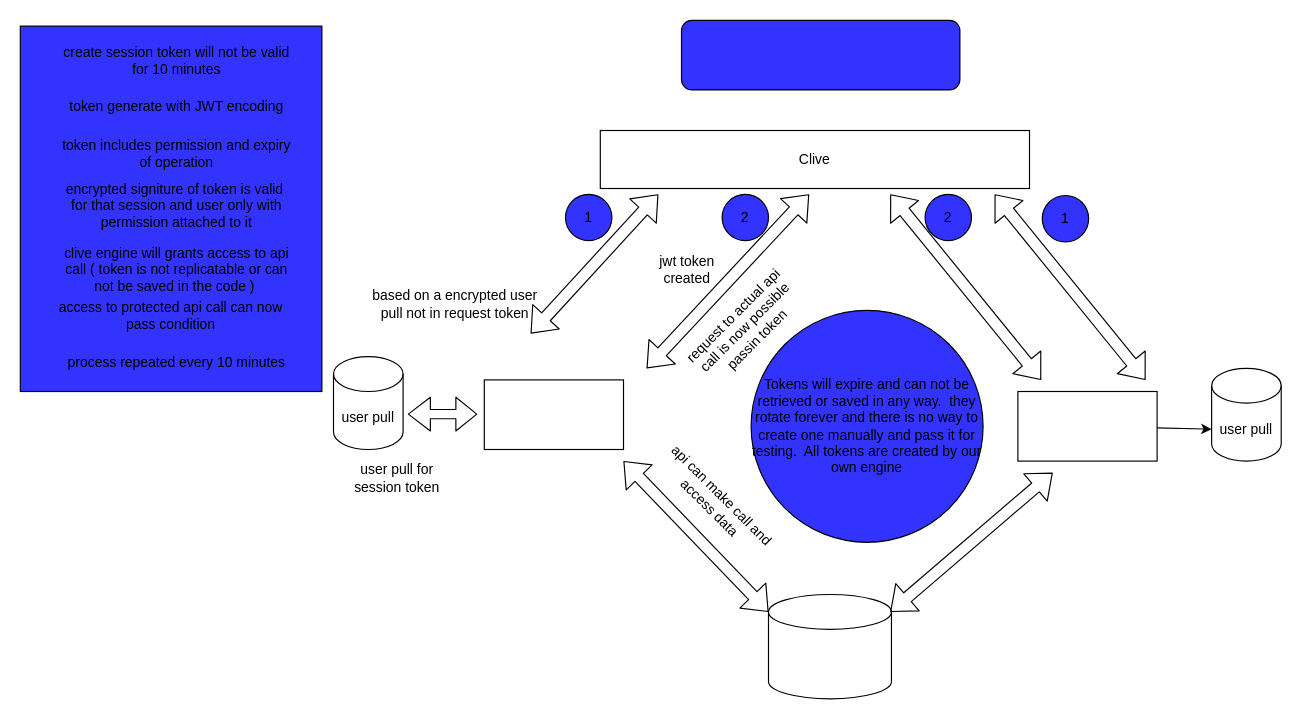
The diagram is 1302 pixels wide and 719 high, and some of its shapes have lost their labels. Each missing label, with the centre of its shape:
"Clive JWT token rotation every 10 minutes" belongs at point 820,54.
"fast api" belongs at point 553,414.
"node api" belongs at point 1087,425.
